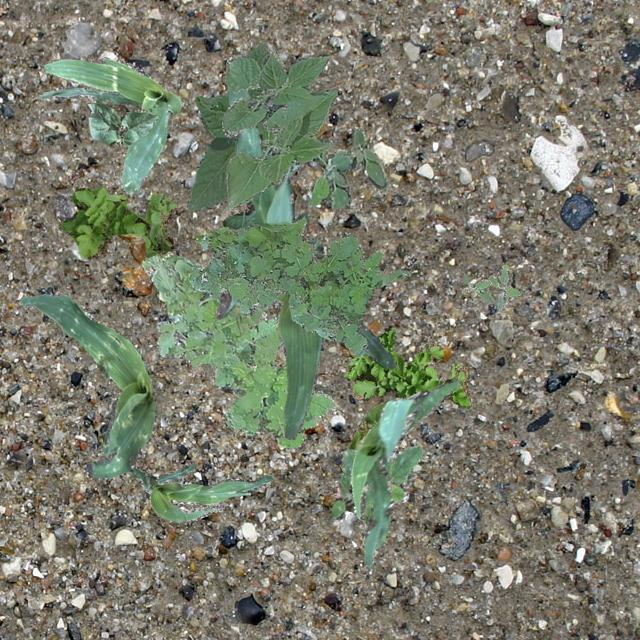crop: (214, 212, 396, 438), (18, 292, 156, 478), (349, 378, 458, 566), (39, 55, 181, 194), (220, 49, 336, 210), (186, 41, 270, 210), (222, 78, 294, 228), (128, 459, 272, 522), (198, 238, 322, 306), (86, 101, 156, 148), (255, 120, 299, 170), (346, 400, 386, 450)
weed: (140, 252, 336, 448), (187, 216, 411, 356), (344, 328, 469, 406), (331, 444, 422, 550), (57, 185, 176, 258), (304, 128, 386, 208), (461, 264, 522, 308), (406, 472, 414, 478)
